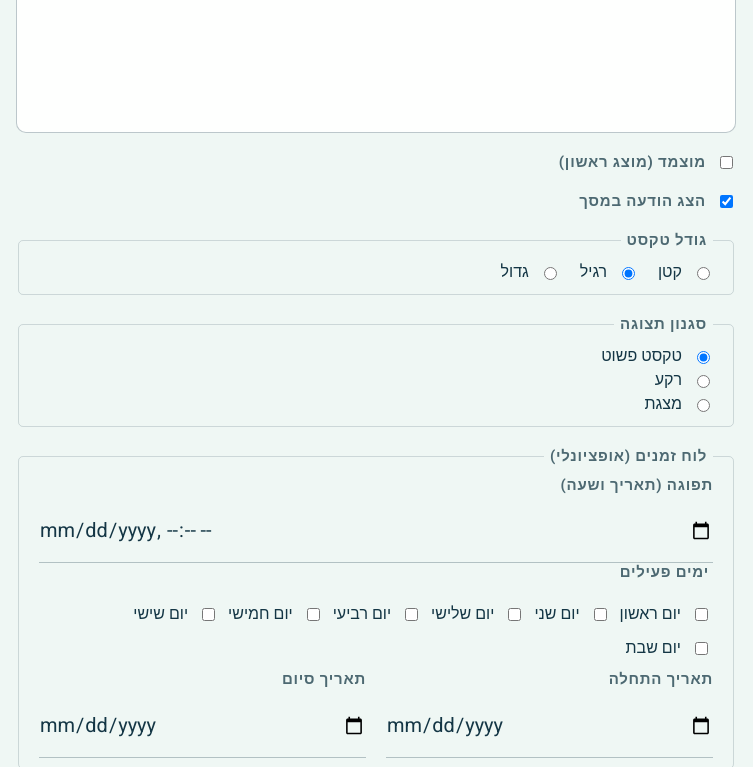
Test: Image upload field › shows file input when photoSlideshow style is selected
This screenshot has width=753, height=767.
(page scrolled)
Click the radio button labelled "מצגת" at [704, 405], box x1=697 y1=399 x2=710 y2=412
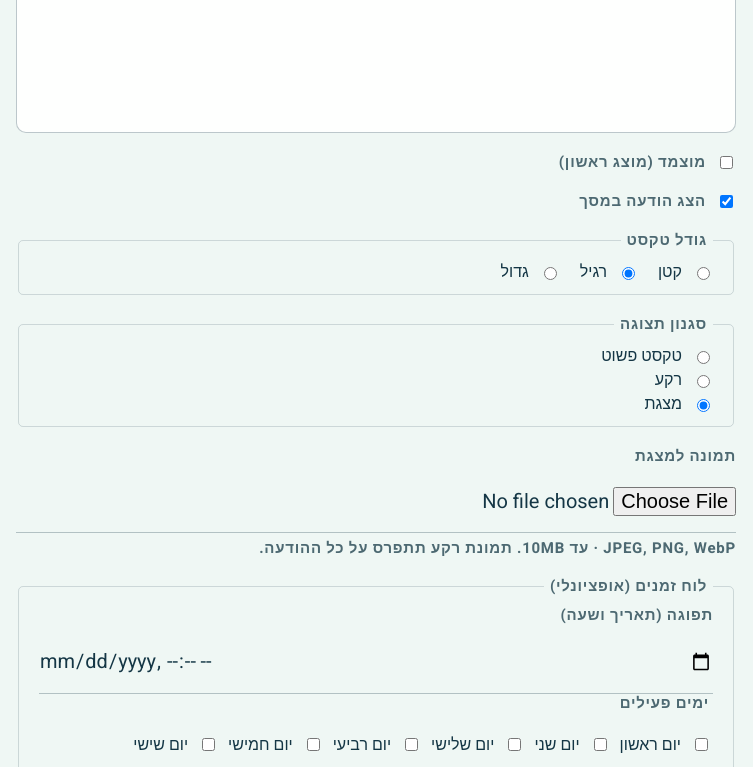
Expected: the file field labelled "תמונה למצגת" is shown, x1=16 y1=472 x2=736 y2=532
